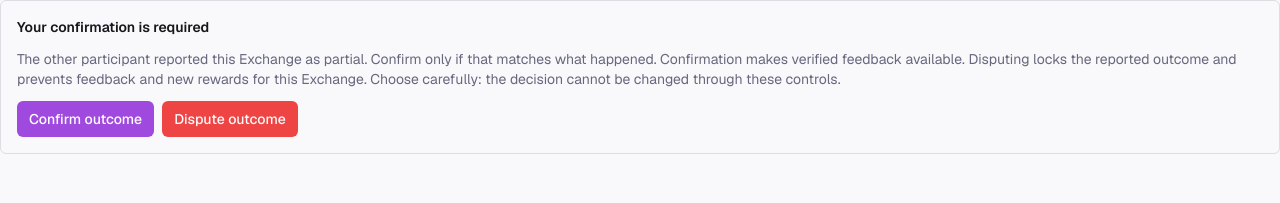
Test case: ExchangeConfirmationActions › keeps server rejection visible and does not claim success
Click the button "Dispute outcome" at (230, 119), box [162,101,298,137]
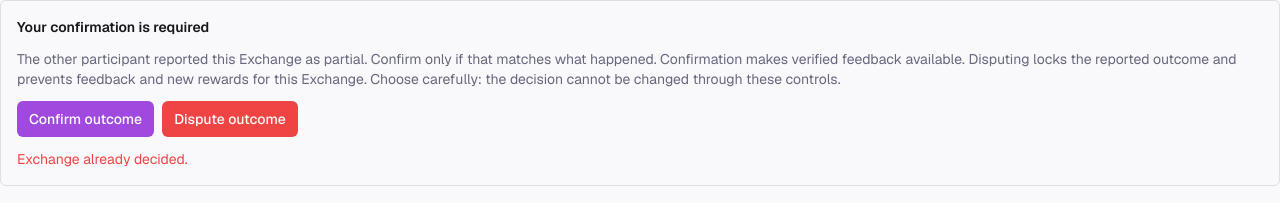
Result: the message reads "Exchange already decided." at [17,150,188,168]
